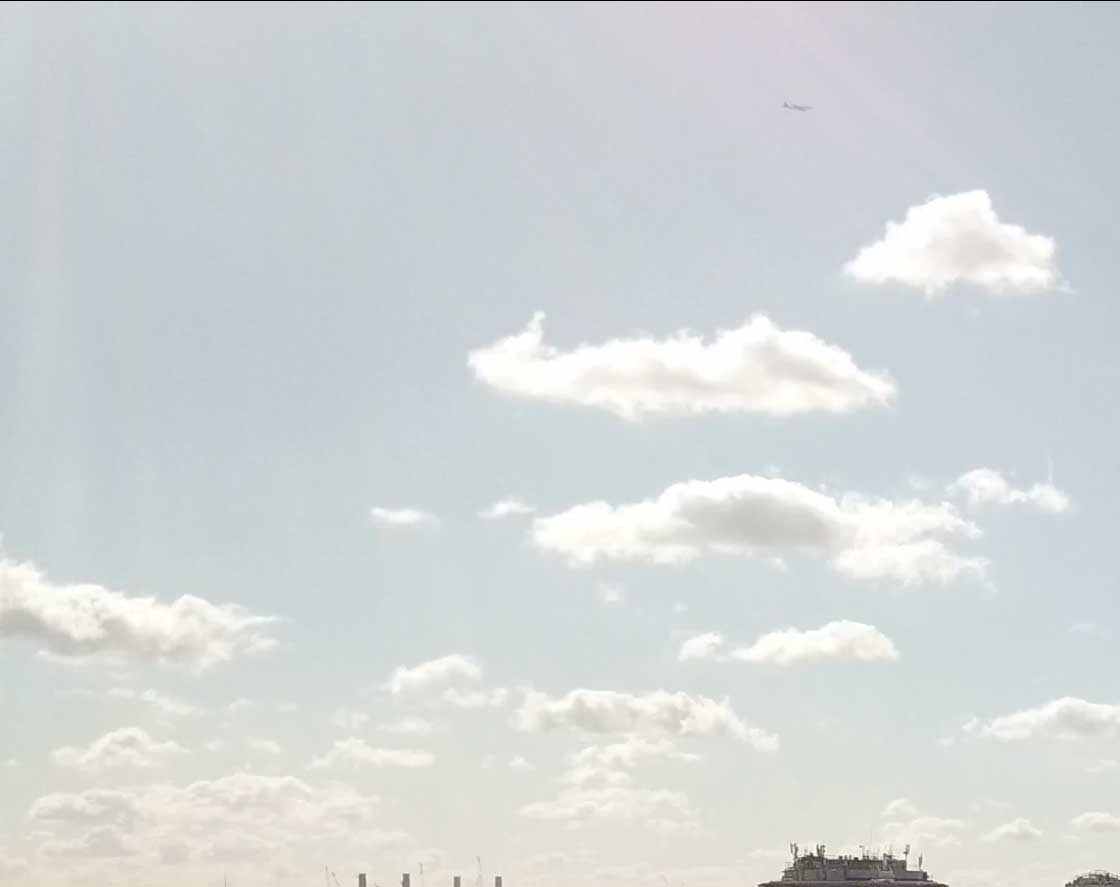cloud: (531, 456, 1076, 606), (459, 303, 909, 422), (2, 544, 286, 686), (821, 172, 1079, 306), (509, 683, 785, 750), (669, 617, 907, 663), (949, 692, 1120, 749)
